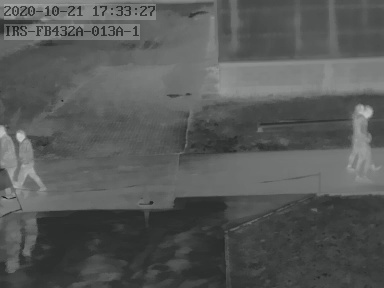person: (345, 102, 378, 174), (17, 128, 44, 189), (1, 128, 19, 189)
